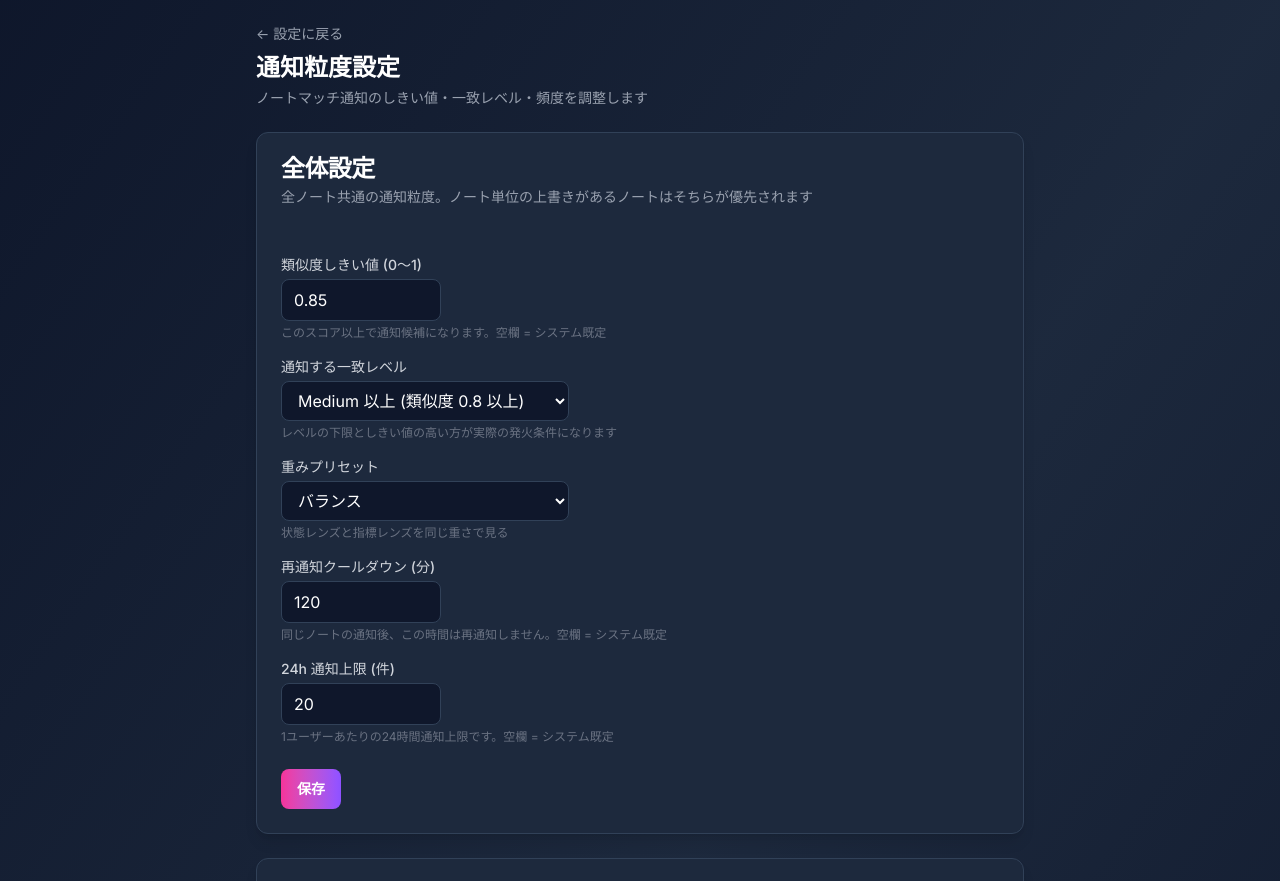
it: 通知粒度設定ページ (Phase β-2b) › しきい値の範囲外入力はバリデーションエラーで送信しない (境界値)
Expected: the text "全体設定" is shown, x1=281 y1=154 x2=375 y2=183
Replace the text in the number field labelled "類似度しきい値 (0〜1)" with "1.5" at (361, 300), box x1=281 y1=279 x2=441 y2=321
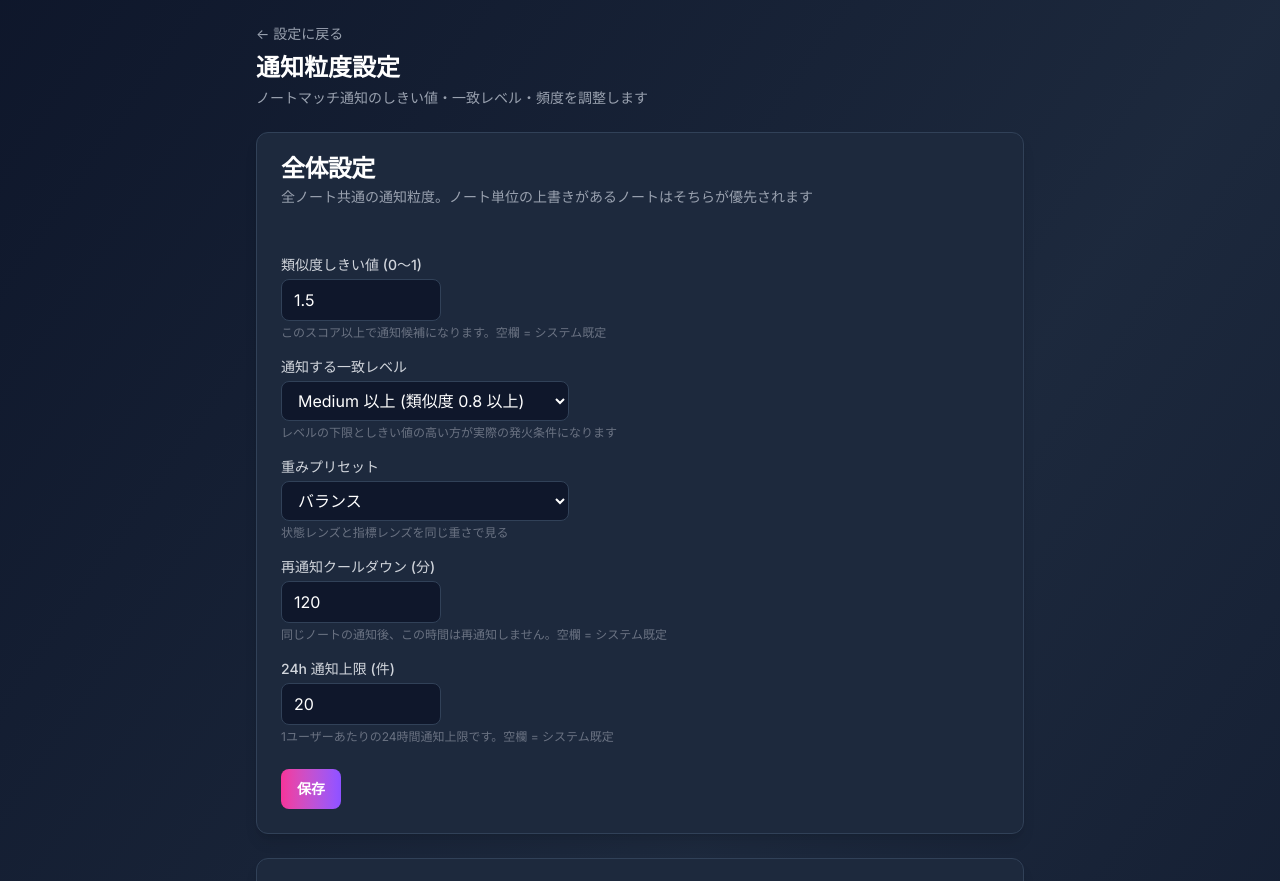
Click the button "保存" at (311, 789), box x1=281 y1=769 x2=341 y2=809
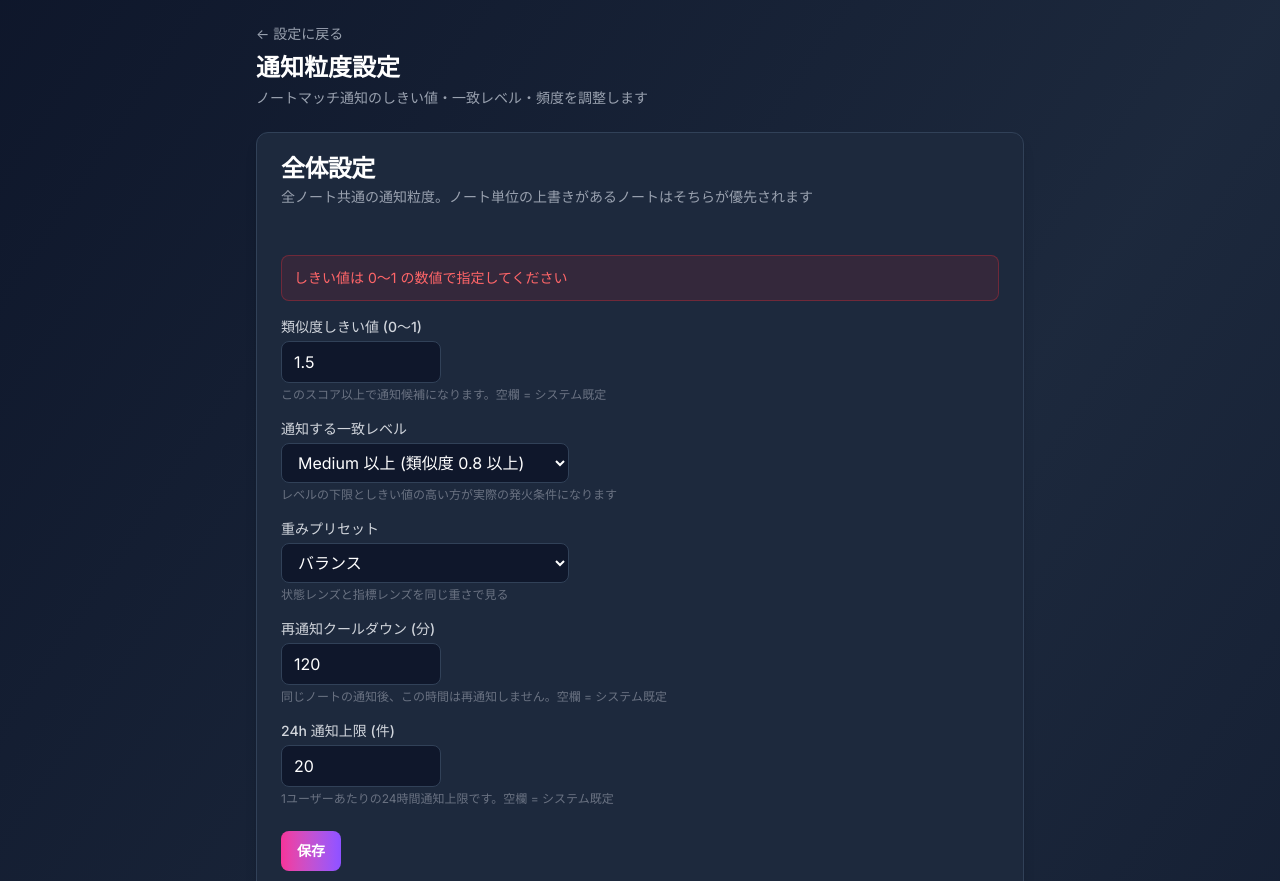
Now the text "しきい値は 0〜1 の数値で指定してください" is shown, box x1=281 y1=255 x2=999 y2=301
